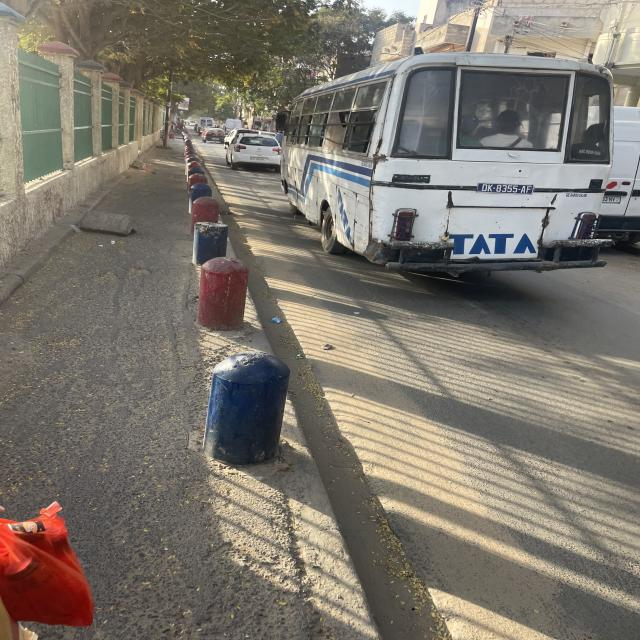bus tata: (283, 54, 614, 276)
fourgon: (599, 107, 640, 246), (203, 129, 226, 145), (196, 119, 216, 136), (224, 120, 244, 132)
particulier: (226, 136, 283, 174), (224, 129, 261, 150)
